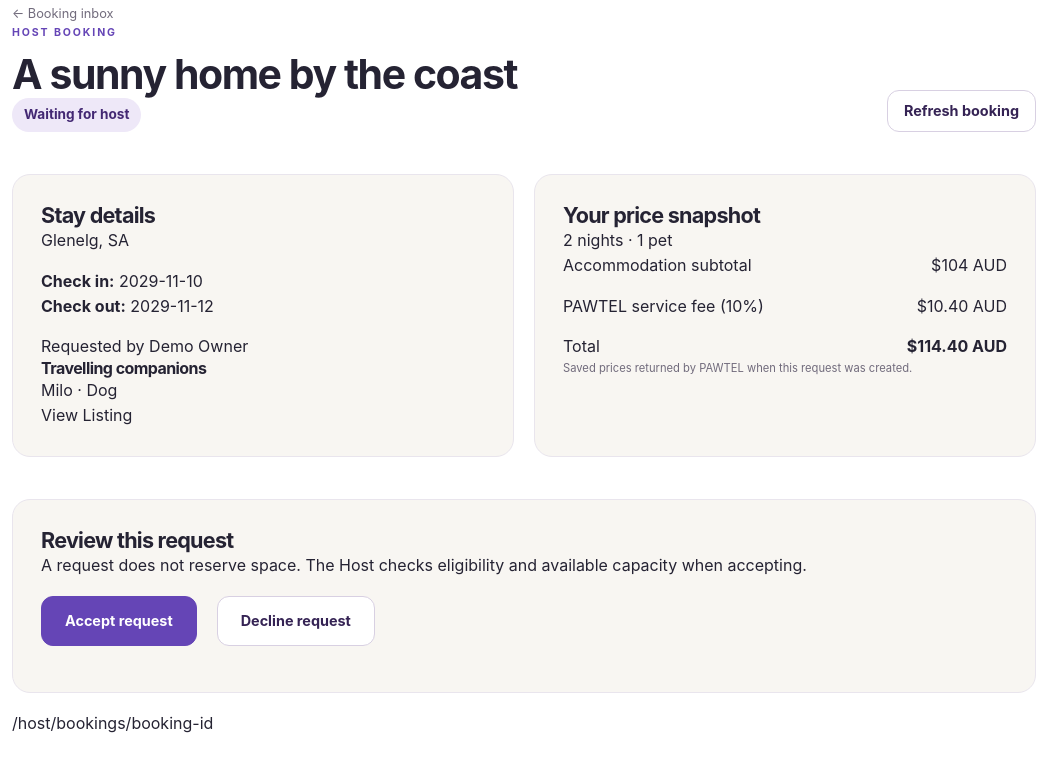
Host decline uses explicit action and refreshes detail and collections
The image size is (1048, 768).
Expected: the text "Requested by Demo Owner" is shown, x1=41 y1=336 x2=248 y2=356
Click the button "Decline request" at (296, 621), box x1=217 y1=596 x2=375 y2=646
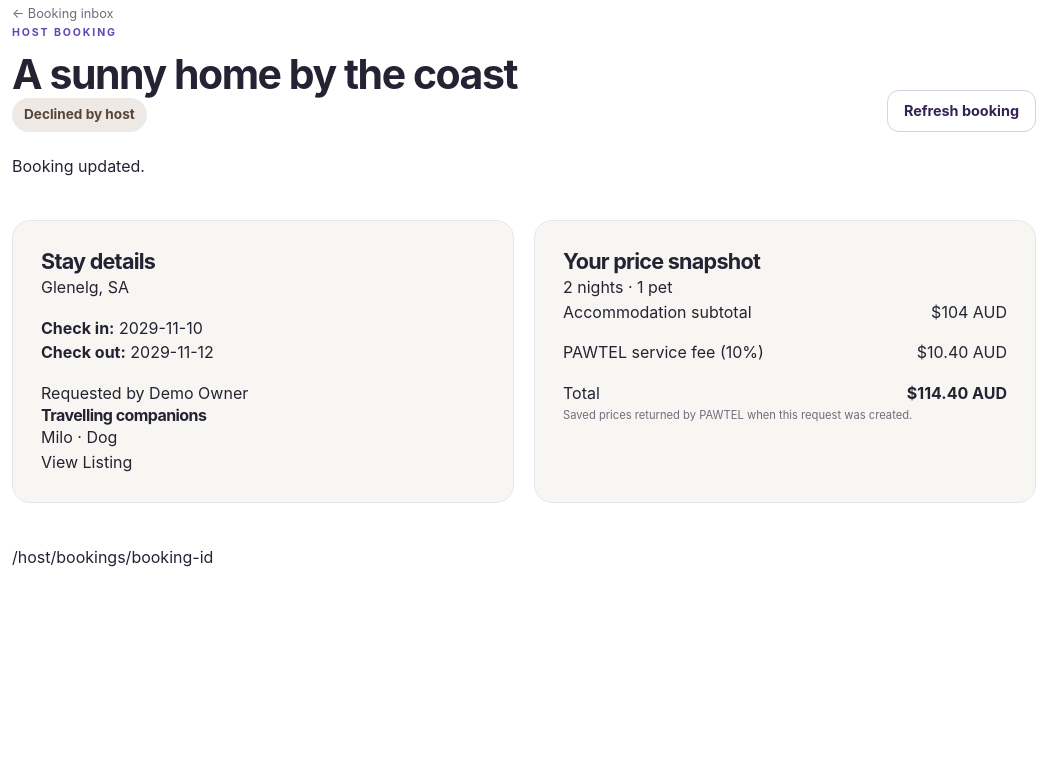
Expected: the button "Accept request" is gone
Expected: the text "Declined by host" is shown, x1=12 y1=98 x2=147 y2=132
